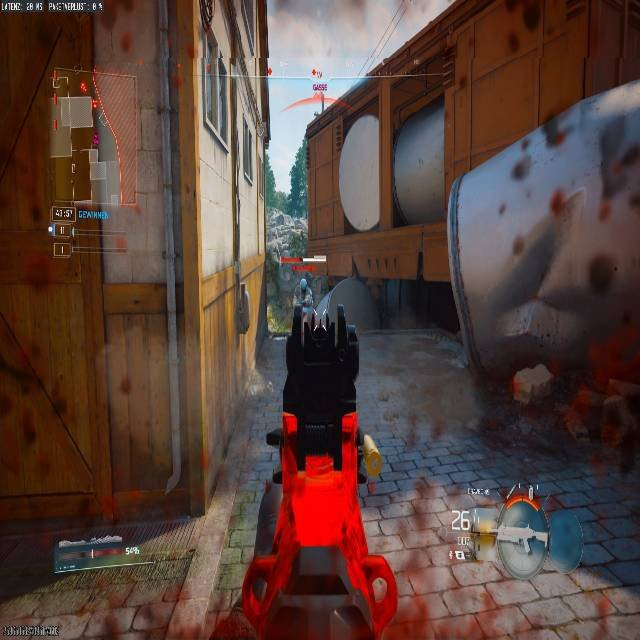head: (298, 277, 308, 290)
player: (296, 276, 316, 328)
